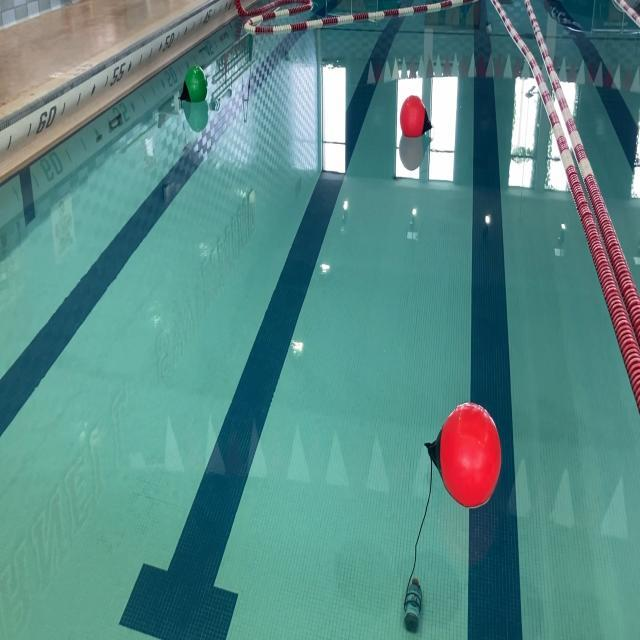buoy: (424, 401, 502, 508), (399, 96, 434, 140), (180, 66, 208, 103)
